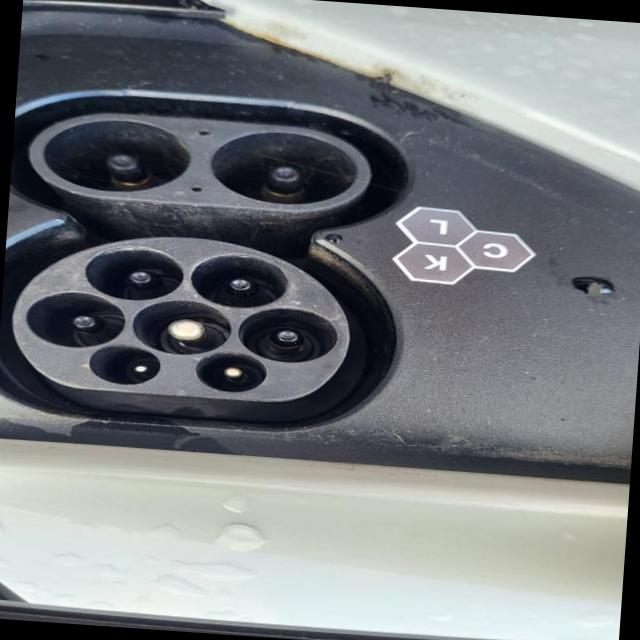inlet: (9, 236, 348, 400)
inlet-above-left: (193, 351, 265, 391)
inlet-above-right: (88, 343, 158, 384)
inlet-below-left: (188, 254, 287, 307)
inlet-below-right: (84, 246, 181, 300)
inlet-center: (131, 298, 230, 354)
inlet-center-left: (237, 306, 336, 362)
inlet-center-right: (24, 289, 123, 346)
